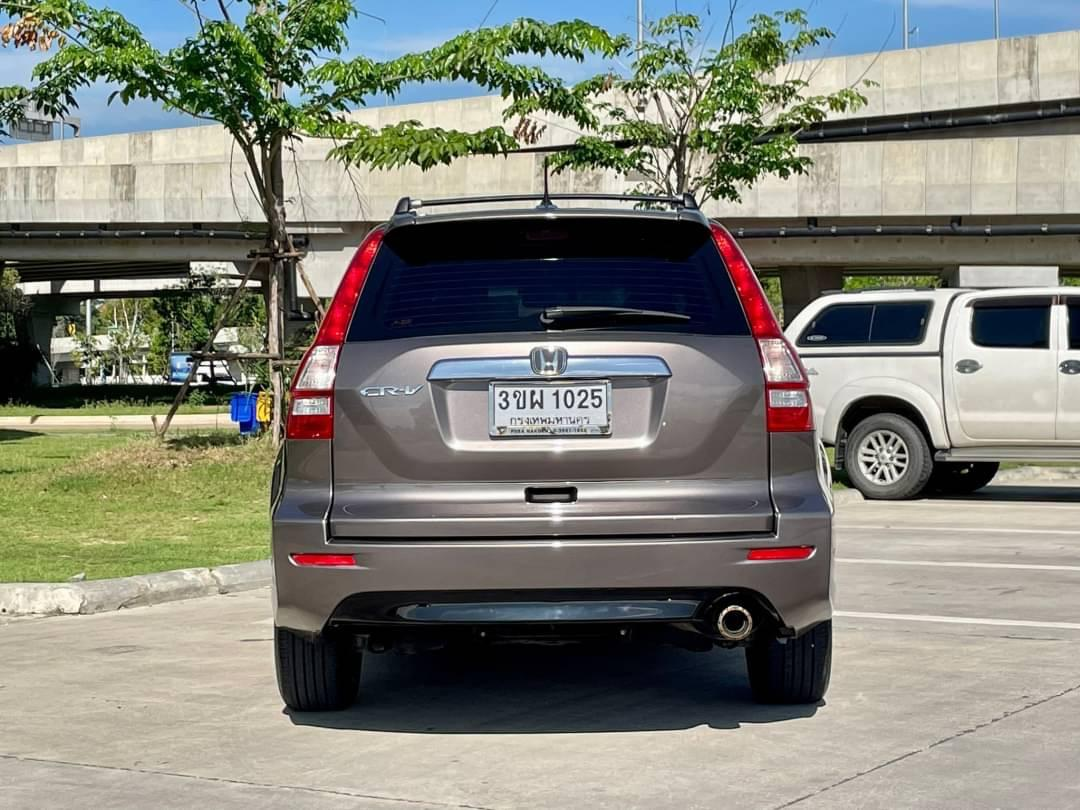license-plate: (484, 377, 619, 446)
